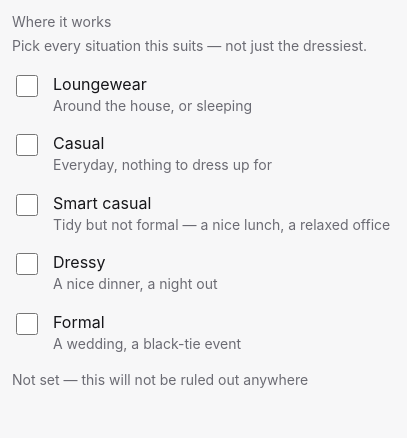
Test: the dressiness multi-select › says what is recorded, and that nothing is
What coordinates should you click on to do the following:
click the checkbox labelled "Dressy"
I would click on:
 (27, 264)
Its box is [16,253,38,275].
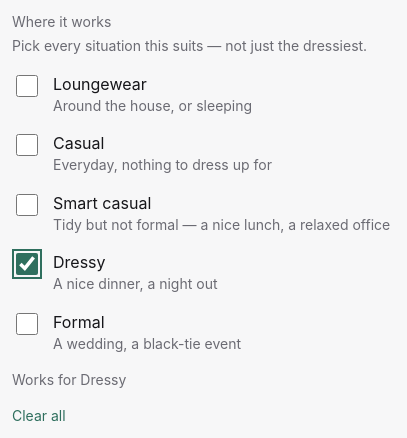
Expected: the text "Not set" reads "Works for Dressy", [12,371,126,388]
